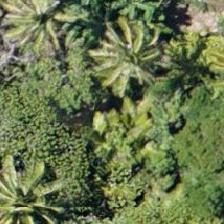coconut_tree: (83, 12, 173, 102), (0, 159, 69, 223), (0, 0, 77, 49)
